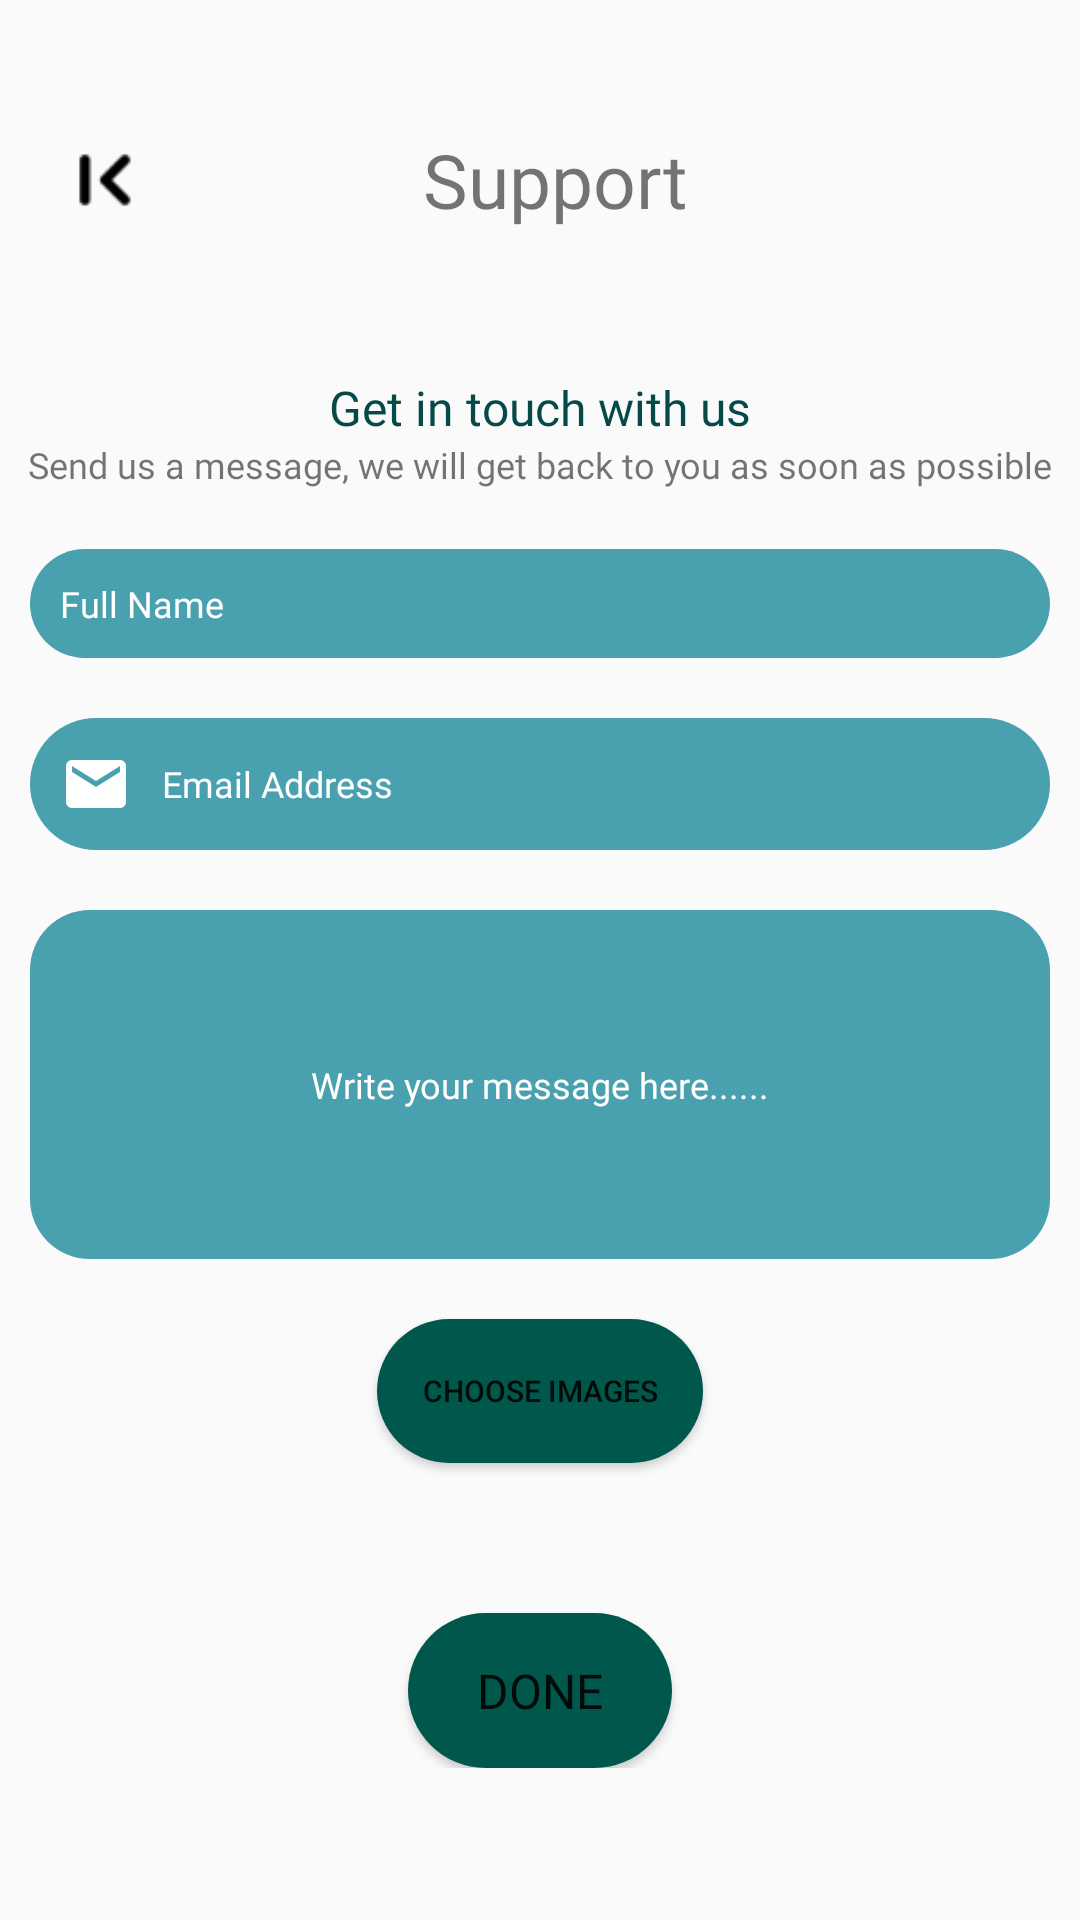

Where to tap for icons on this 1080 × 1920 app screen, as (x,y):
back: (105,180)
